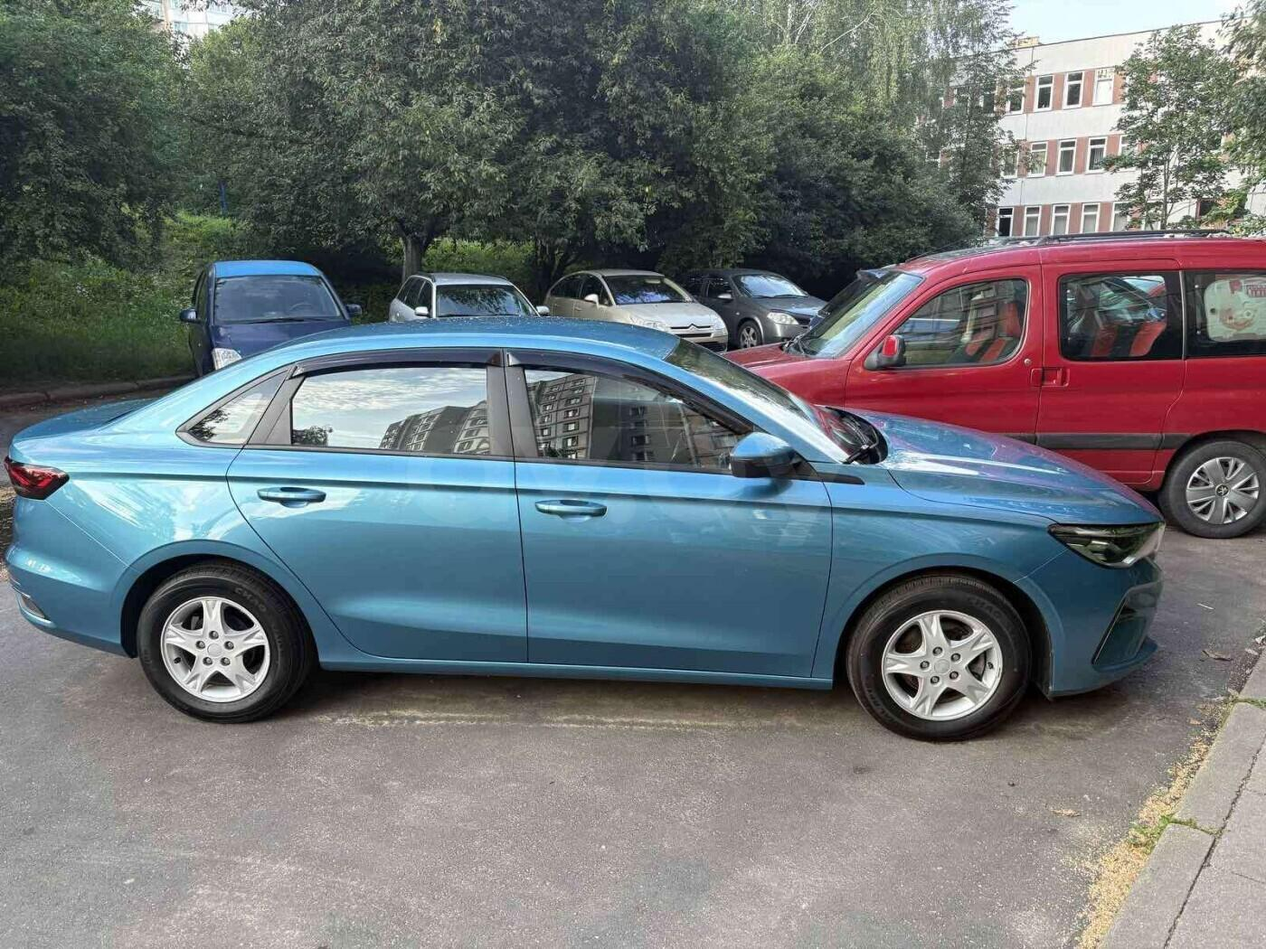Emgrand_2021: (0, 311, 1163, 745)
